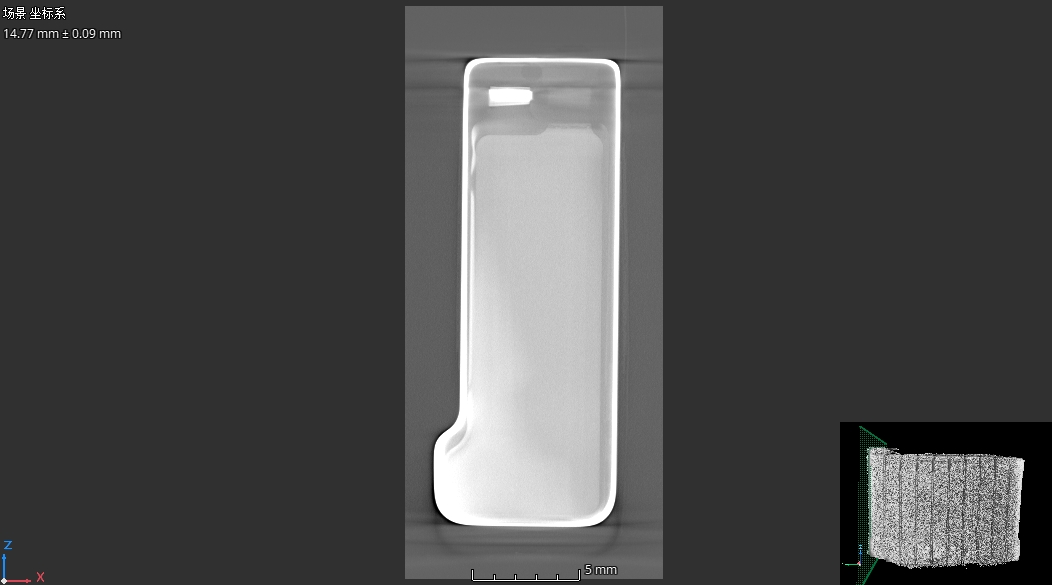damage: (469, 138, 480, 199)
